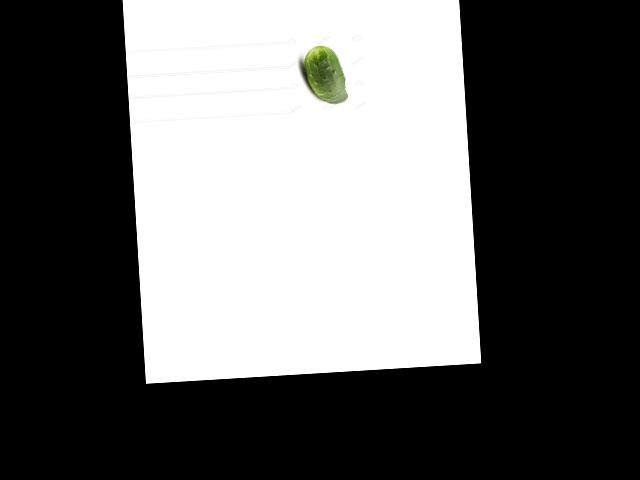cucumber: (302, 43, 347, 105)
